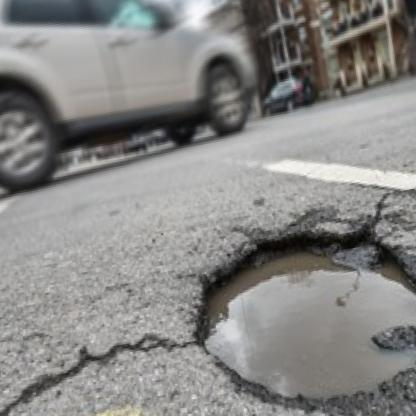pothole: (174, 196, 416, 416)
